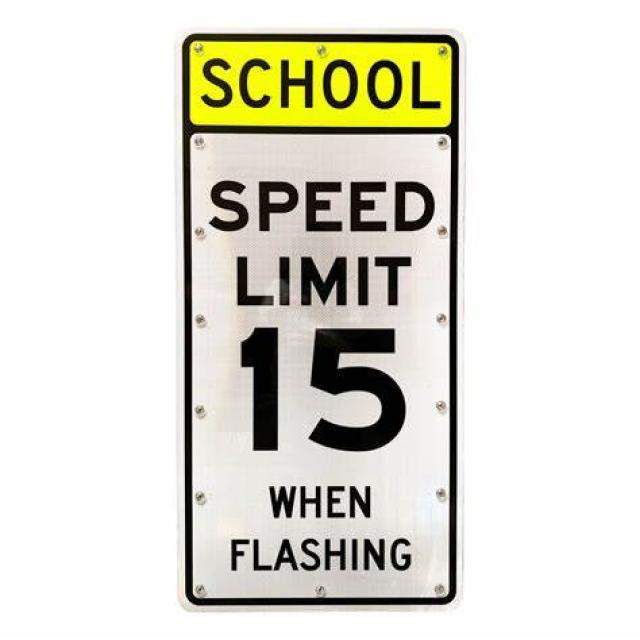speedLimit15: (178, 43, 456, 482)
